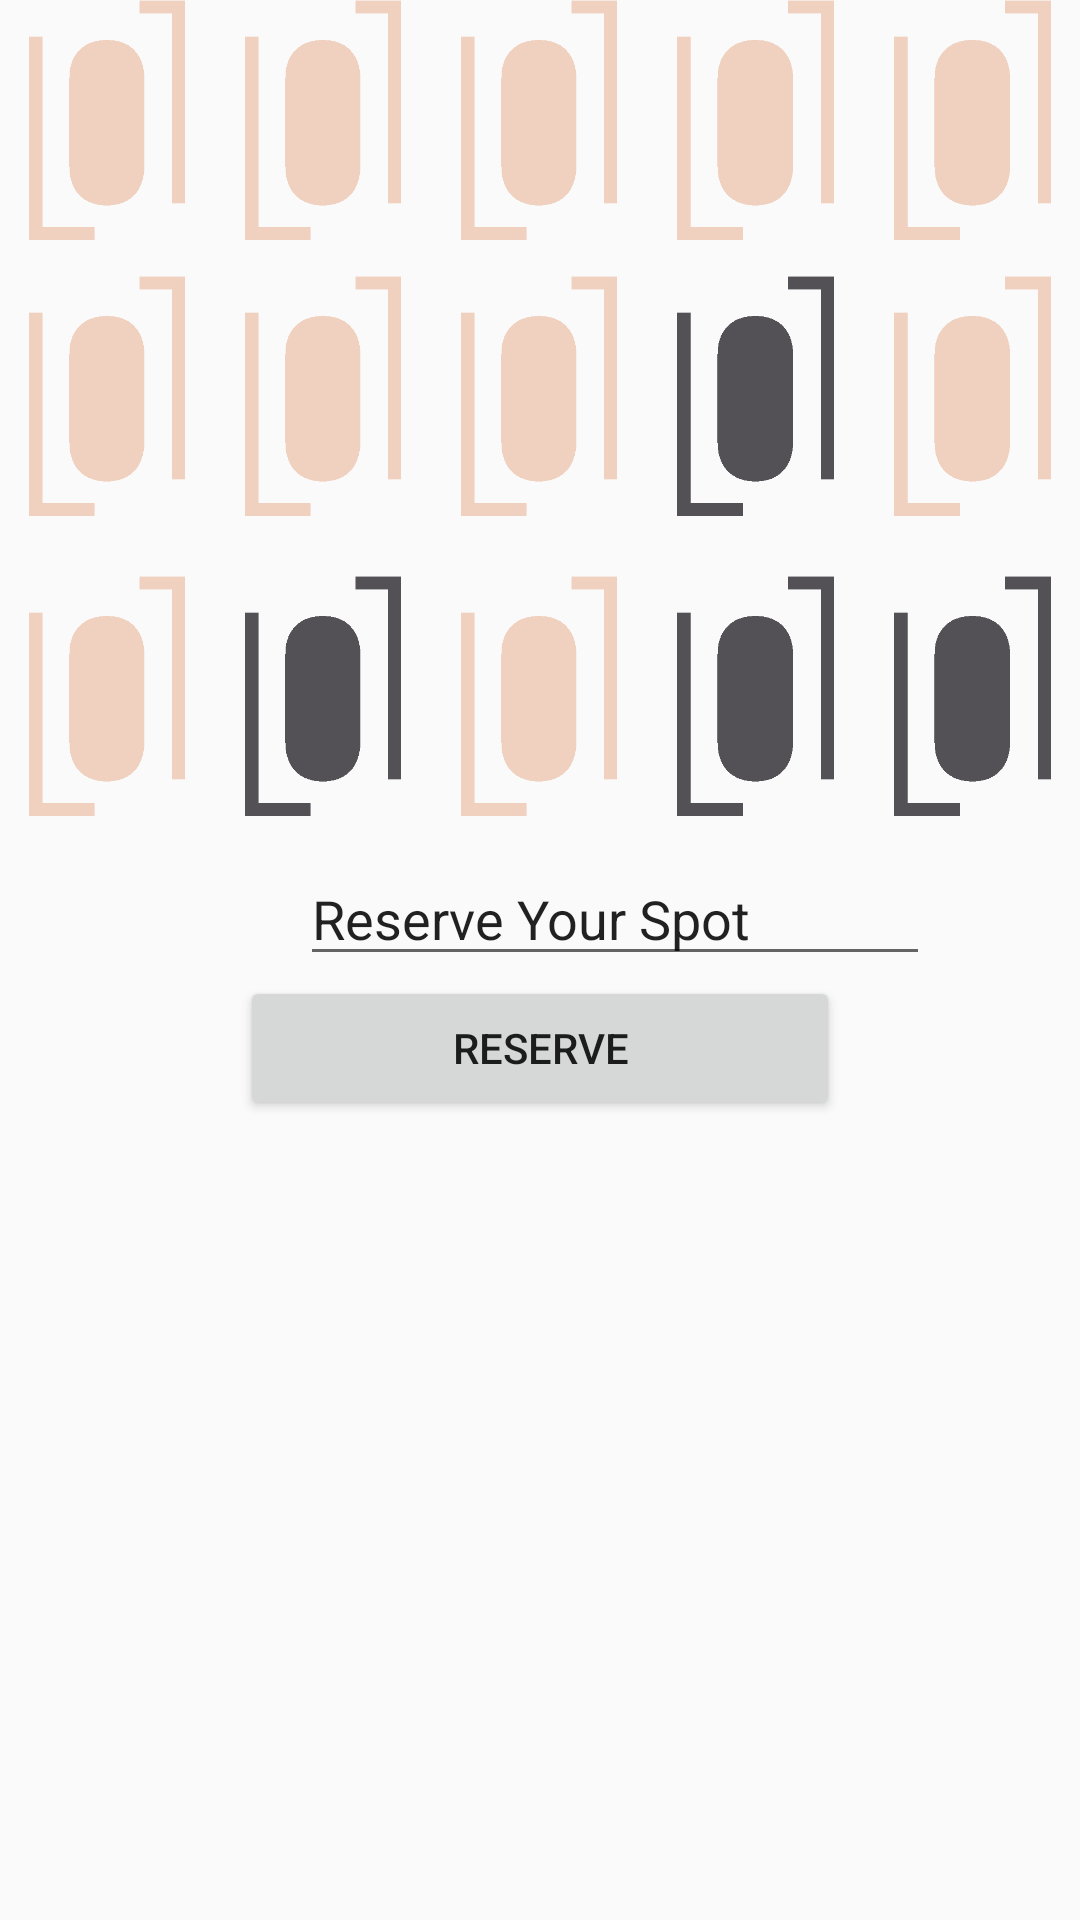

Point at icon controls on the screen. Image size 1080*1920, points as point (x, y).
spotgray: point (755, 396), point (323, 696), point (755, 696), point (972, 696)
